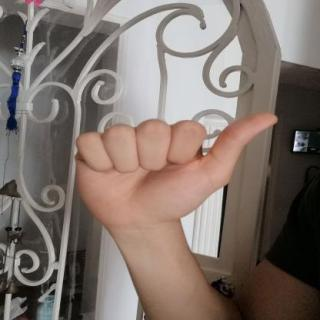DAD: (60, 104, 288, 239)
